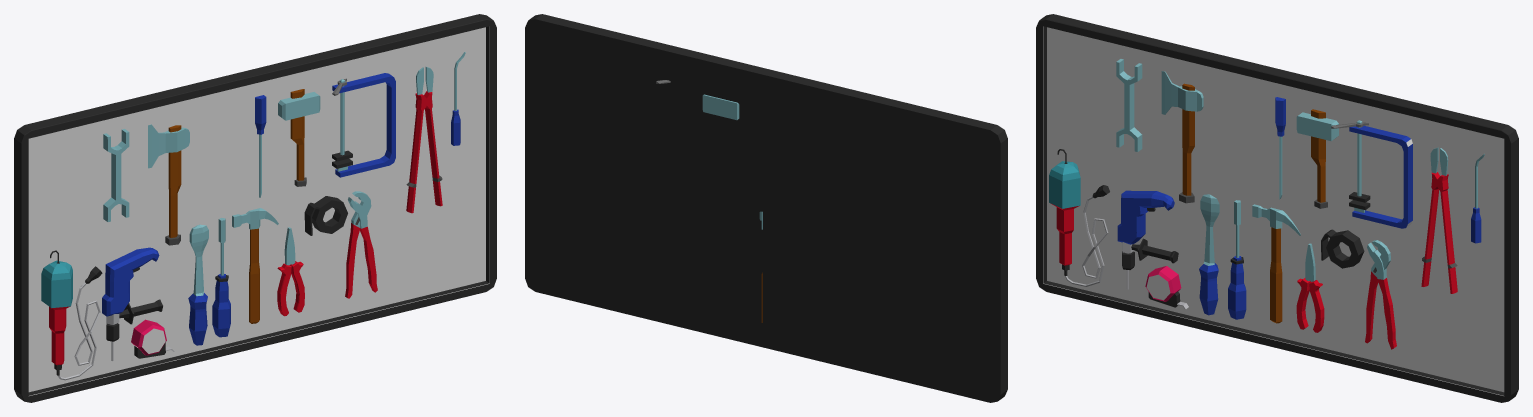
The model's file is tools.fbx.
3 renders of one model, left to right at view 1: azimuth 30°, elevation 25°; view 2: azimuth 150°, elevation 25°; view 3: azimuth 330°, elevation 25°, orthographic.
Visible parts, largest first — view 1: Cube, Lamp, Drill, Holder, Splitter, Axe, EHammer, Pliers_02, Gola, Hammer, Pliers_01, Screwdriver_03 (+5 smaller); view 2: Cube, EHammer; view 3: Cube, Lamp, Drill, Holder, Axe, Splitter, Pliers_02, EHammer, Hammer, Gola, Pliers_01, Wrench (+5 smaller).
Boxes of the visible parts, x1,y1,x2,y2 form: Cube: (14,14,496,402); Lamp: (41,250,102,380); Drill: (102,247,162,360); Holder: (332,73,395,177); Splitter: (406,66,442,213); Axe: (148,124,189,245); EHammer: (278,89,320,186); Pliers_02: (345,191,377,298); Gola: (188,224,208,345); Hammer: (232,208,278,323); Pliers_01: (277,227,304,316); Screwdriver_03: (212,218,230,337); Cube: (525,14,1007,402); EHammer: (702,94,739,120); Cube: (1036,14,1518,402); Lamp: (1049,149,1109,286); Drill: (1117,190,1178,289); Holder: (1331,120,1412,228); Axe: (1161,71,1203,203); Splitter: (1421,147,1457,293); Pliers_02: (1365,240,1396,349); EHammer: (1296,109,1338,208); Hammer: (1252,204,1300,323); Gola: (1199,194,1219,315); Pliers_01: (1296,243,1324,332); Wrench: (1116,59,1142,151).
Bounding box in the file's own units: 126 × 68.85 × 10.68.
